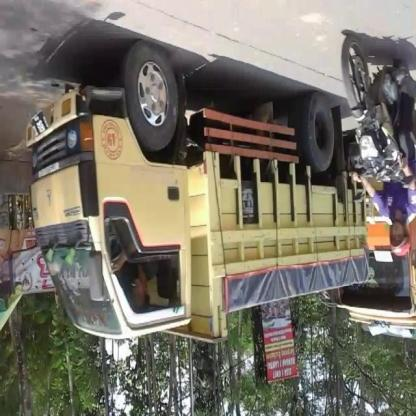truck: (29, 40, 377, 345)
